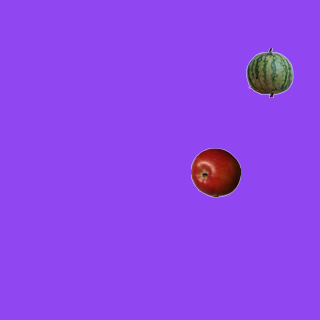Apple Braeburn: (190, 147, 240, 197)
Watermelon: (244, 47, 294, 97)
